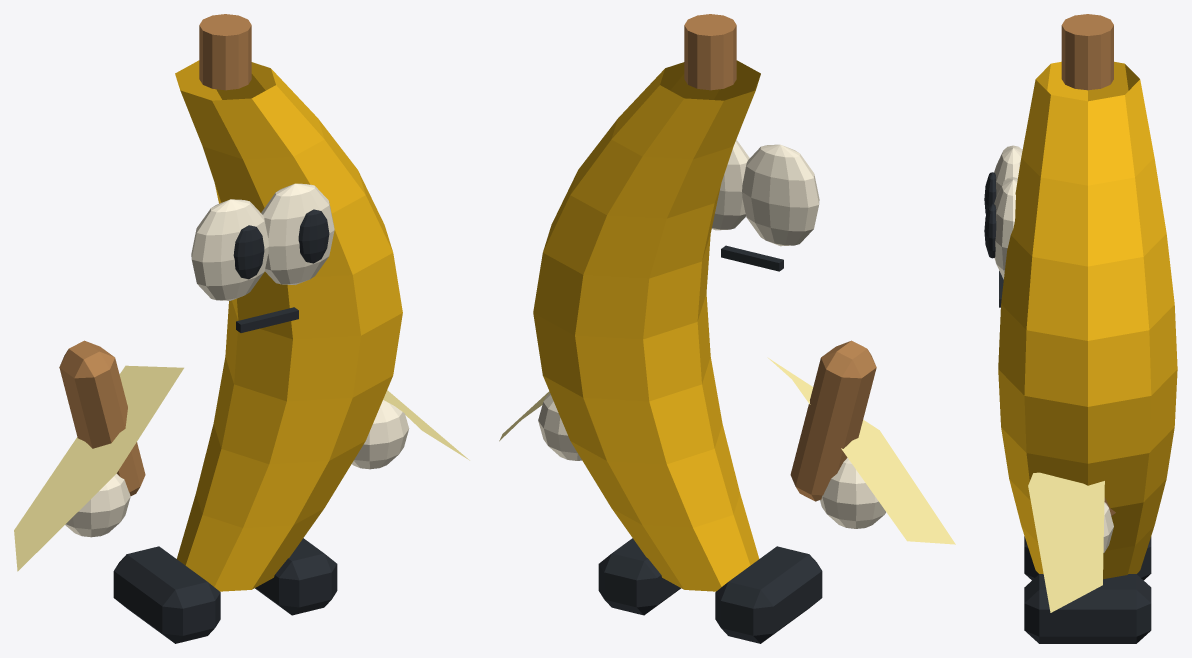
Rendered from banana.glb.
3 renders of one model, left to right at view 1: azimuth 30°, elevation 25°; view 2: azimuth 150°, elevation 25°; view 3: azimuth 270°, elevation 25°, orthographic.
Visible parts, largest first — view 1: banana; view 2: banana; view 3: banana.
Part boxes in pixels (x1,y1,x2,y2): banana: (14, 14, 469, 643); banana: (499, 14, 955, 643); banana: (984, 14, 1177, 643).
Bounding box in the file's own units: 1.4 × 1.72 × 0.517.
